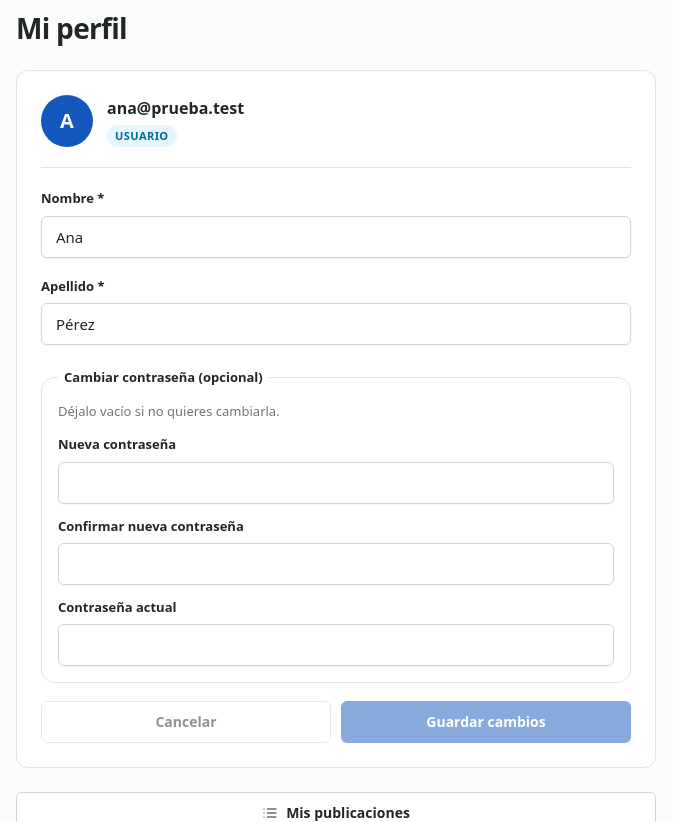
it: H13 - Pantalla Perfil › guarda nombre y apellido válidos sin enviar contraseña y muestra los datos de la API
This screenshot has width=673, height=822.
Replace the text in the field labelled "Nombre *" with "Ána María" at (336, 237), box [41,216,631,258]
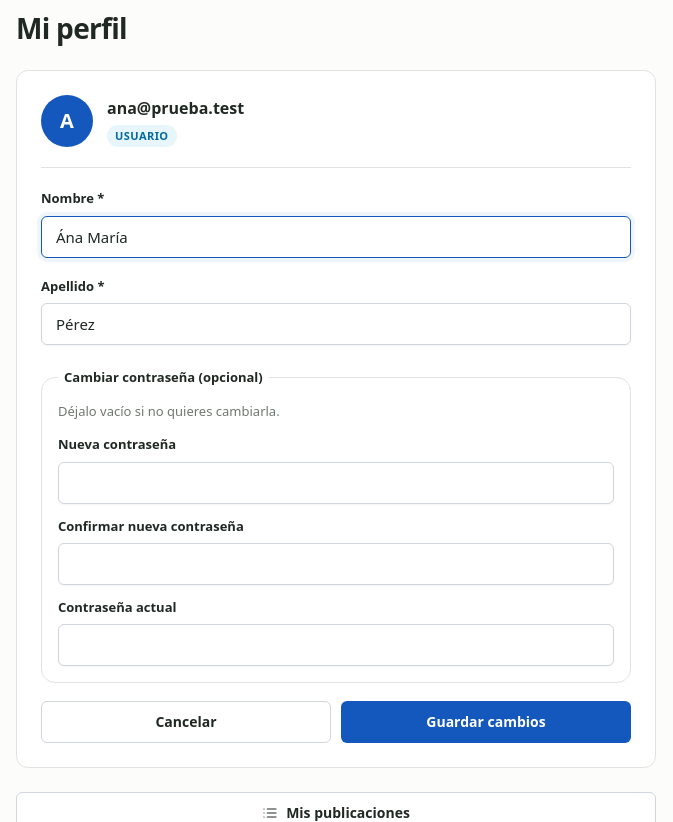
Replace the text in the field labelled "Apellido *" with "Núñez" at (336, 324), box [41,303,631,345]
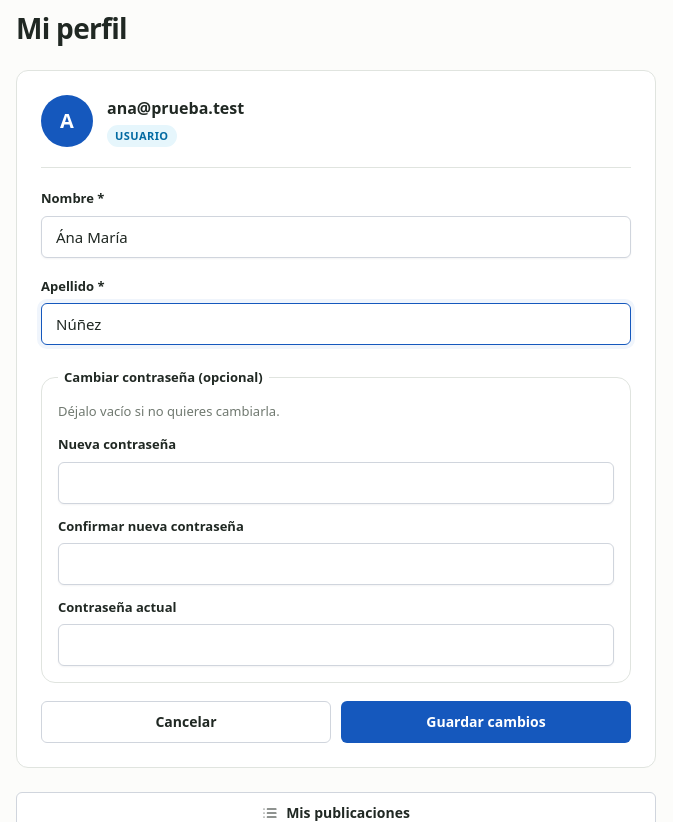
Click the button "Guardar cambios" at (486, 722), box [341,701,631,743]
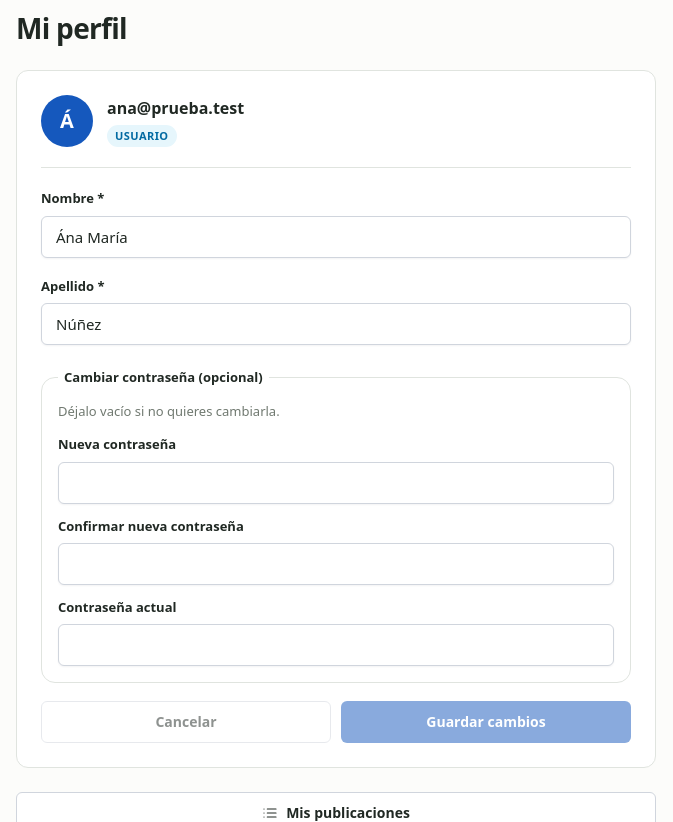
Expected: the button "Guardar cambios" is disabled, [341,701,631,743]
